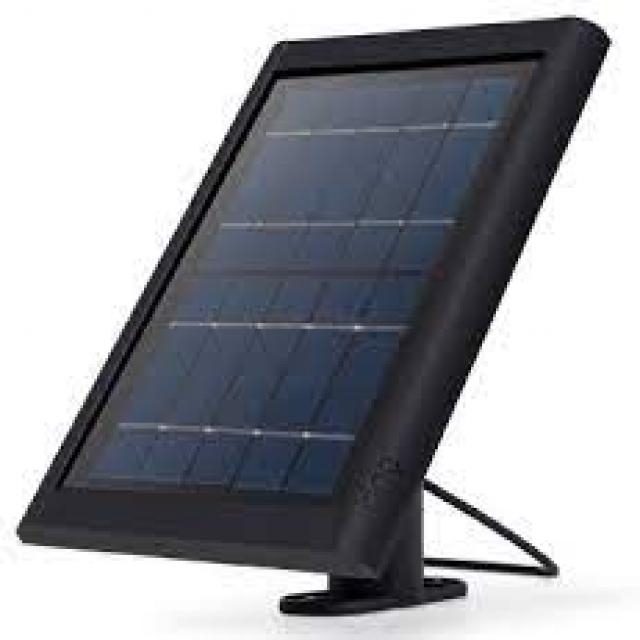no faulty: (52, 62, 528, 494)
